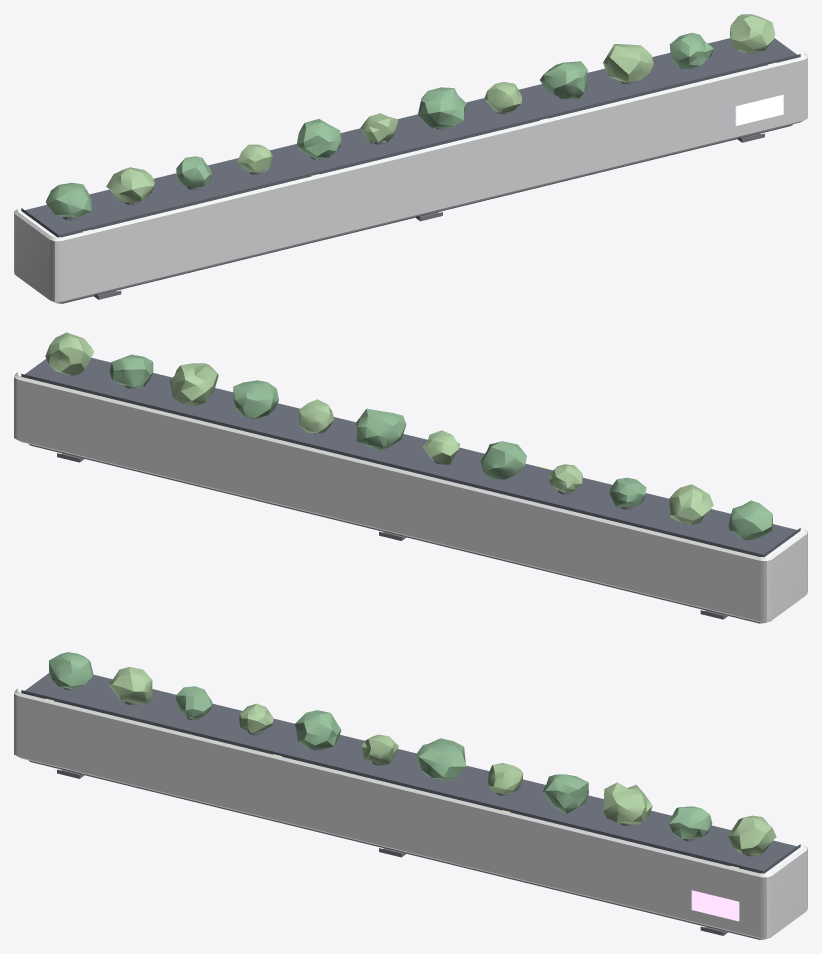
The model's file is iter_01.glb.
The picture shows the model from 3 angles, top to bottom: view 1: azimuth 30°, elevation 25°; view 2: azimuth 150°, elevation 25°; view 3: azimuth 330°, elevation 25°; orthographic projection.
Parts seen in each view (by area): view 1: Trough, Grow_Lid, Foliage, Foliage_Light, Plinth, Level_Window; view 2: Trough, Grow_Lid, Foliage, Foliage_Light, Plinth; view 3: Trough, Grow_Lid, Foliage, Foliage_Light, Plinth, Level_Window.
Part boxes in pixels (box(x1,y1,x2,y2)): Trough: box(14, 53, 807, 302); Grow_Lid: box(21, 38, 800, 237); Foliage: box(46, 32, 713, 217); Foliage_Light: box(106, 14, 775, 202); Plinth: box(57, 124, 792, 303); Level_Window: box(735, 94, 783, 125); Trough: box(14, 372, 807, 622); Grow_Lid: box(21, 358, 800, 557); Foliage: box(109, 354, 772, 539); Foliage_Light: box(45, 332, 713, 525); Plinth: box(29, 444, 765, 623); Trough: box(14, 689, 807, 938); Grow_Lid: box(21, 673, 800, 873); Foliage: box(49, 652, 712, 838); Foliage_Light: box(108, 667, 776, 855); Plinth: box(29, 760, 765, 939); Level_Window: box(691, 890, 739, 921).
Size of the model in its own units: 4 by 0.5397 by 0.404.
